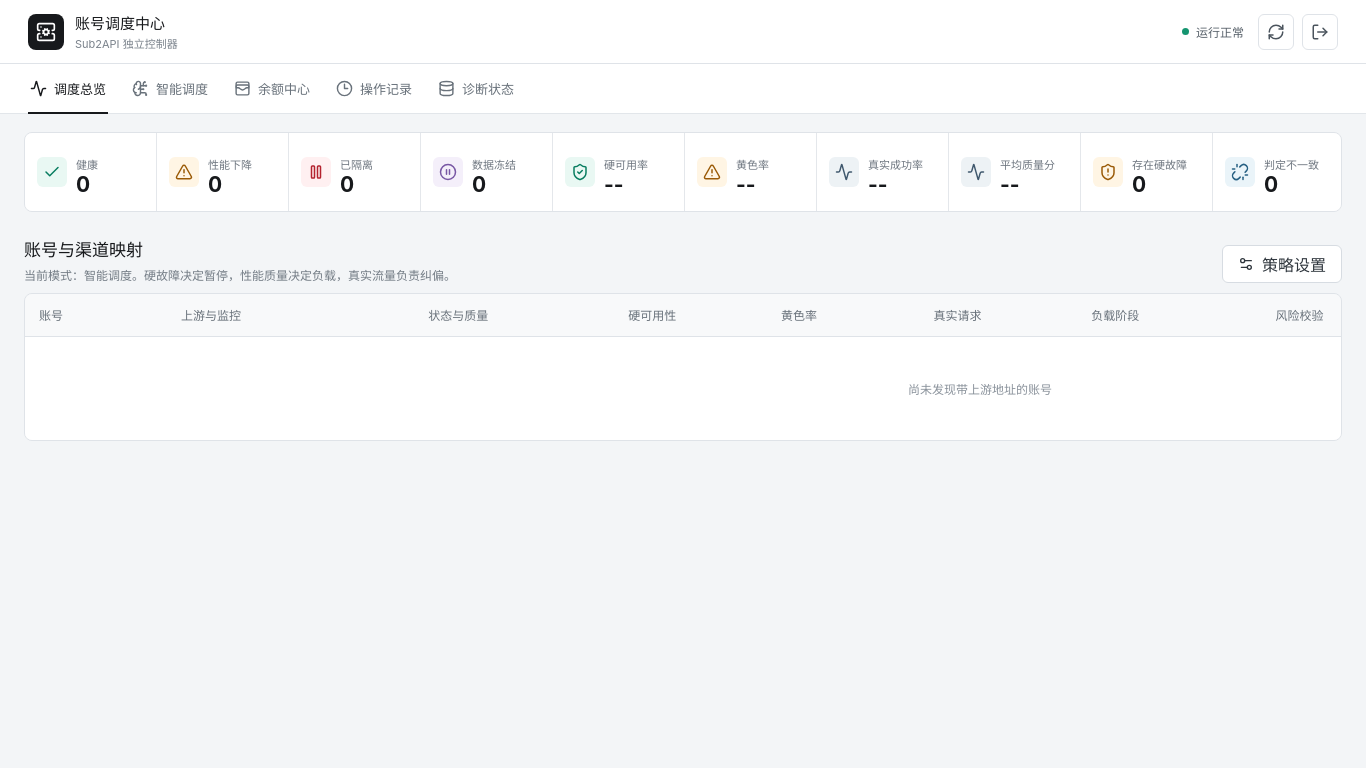
Test: App › does not expose an arbitrary token group writer
Click the button "余额中心" at point(272, 89), box left=232, top=64, right=312, bottom=114
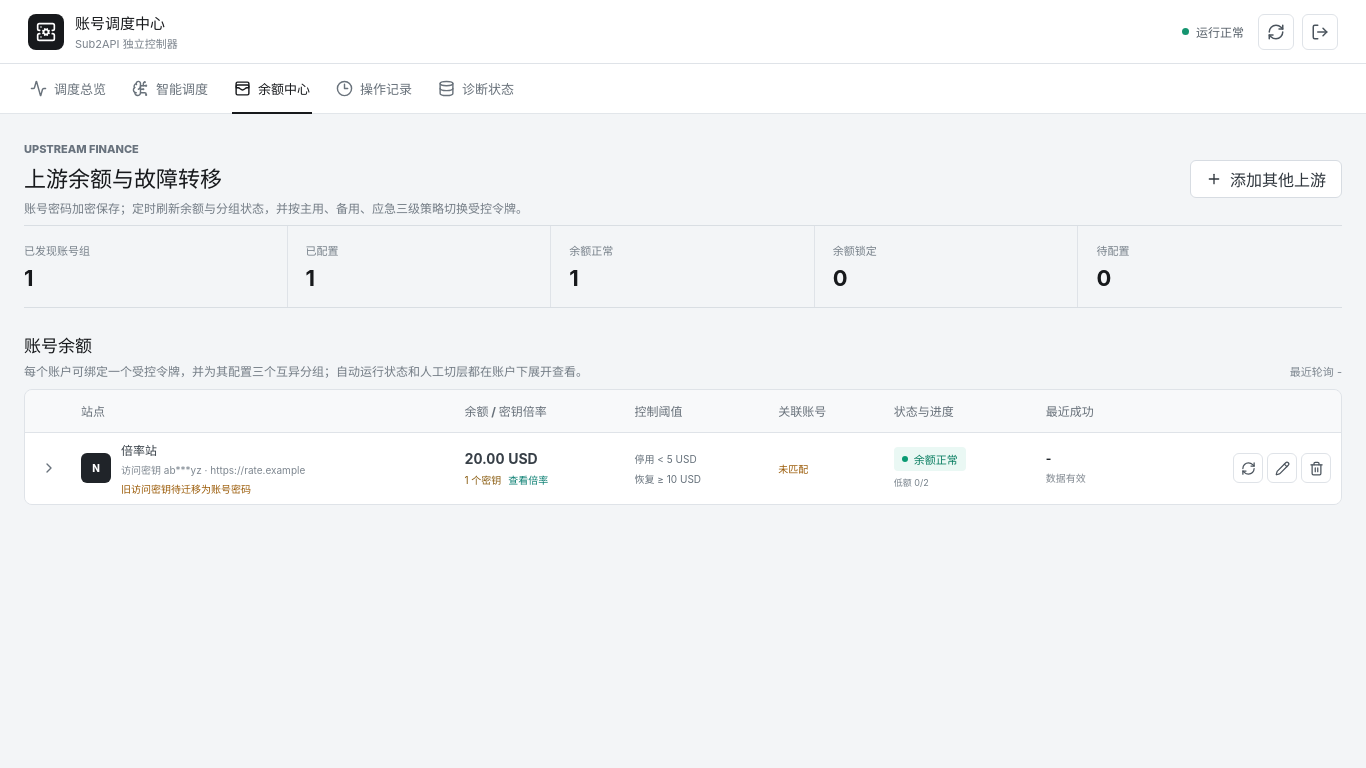
Click the button titled "展开密钥倍率" at point(48, 468), box left=35, top=455, right=61, bottom=481
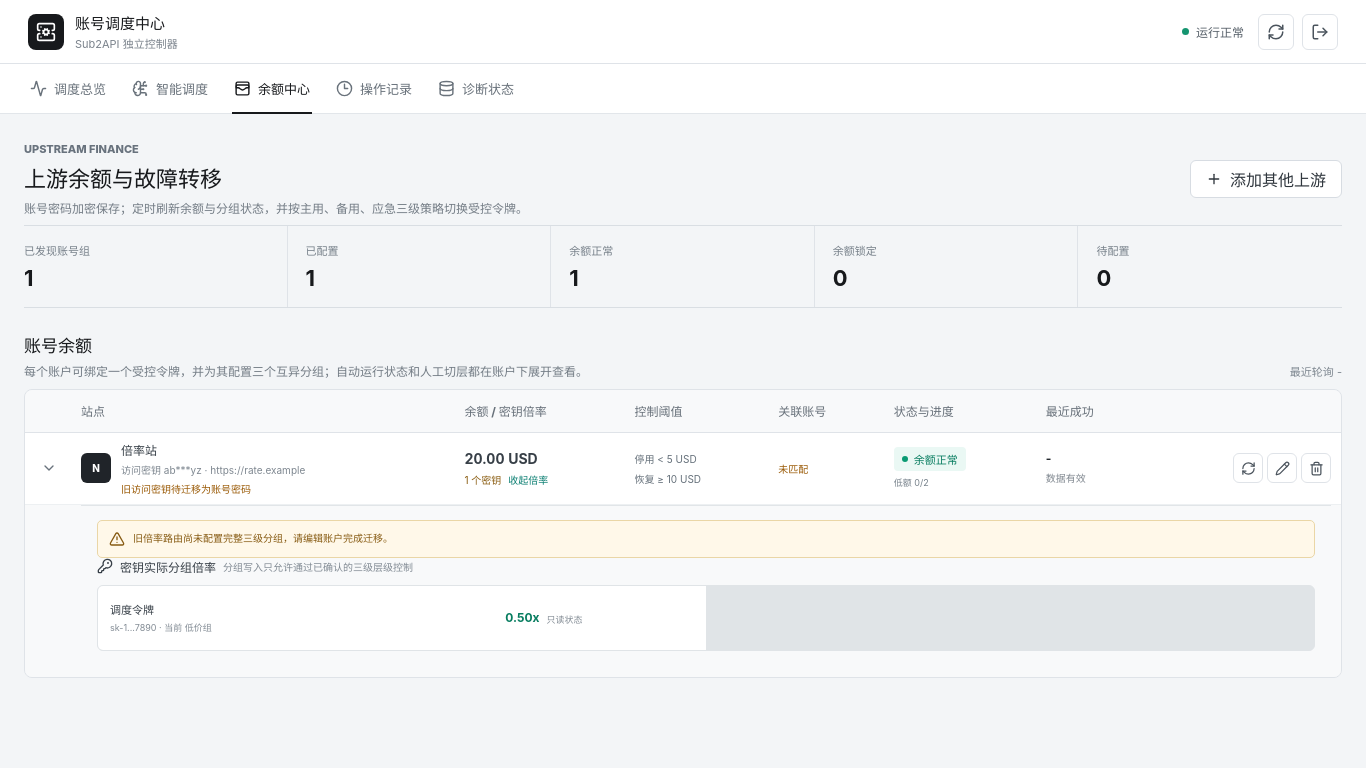
Expected: the text "分组写入只允许通过已确认的三级层级控制" is shown, left=223, top=558, right=413, bottom=574
